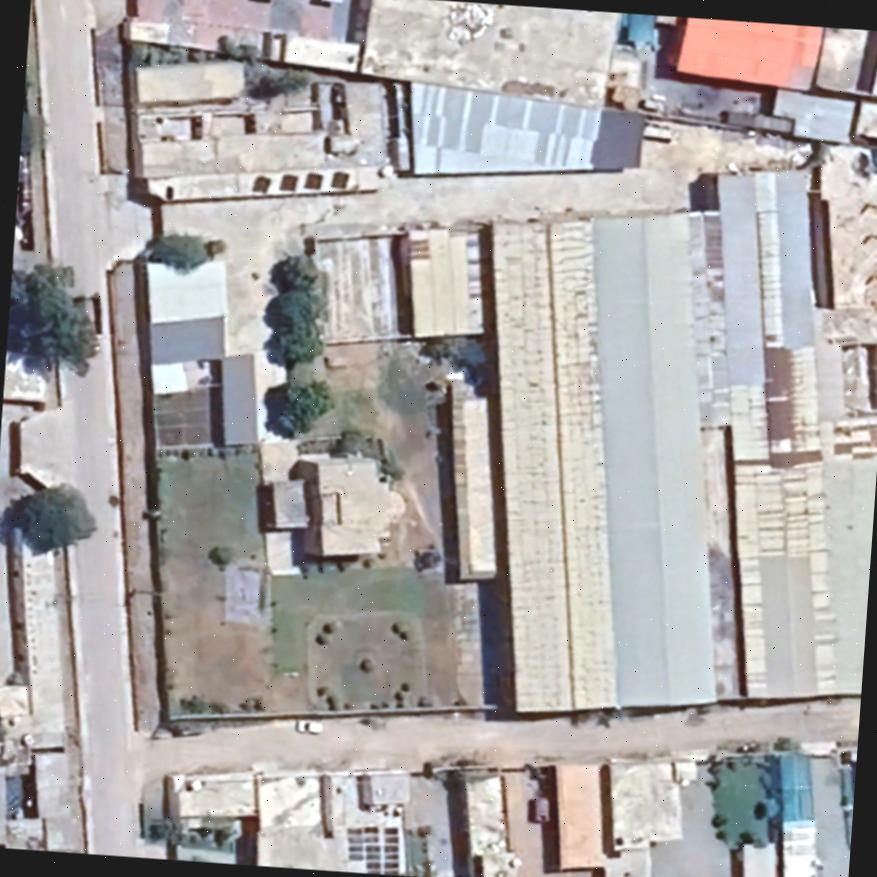Solarpanel: (345, 824, 399, 875)
